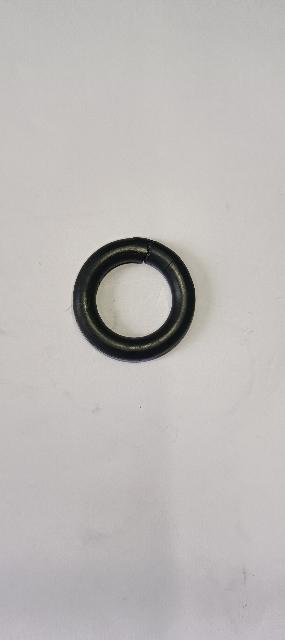crack: (142, 239, 156, 264)
scratch: (163, 259, 175, 275), (133, 237, 134, 241)
